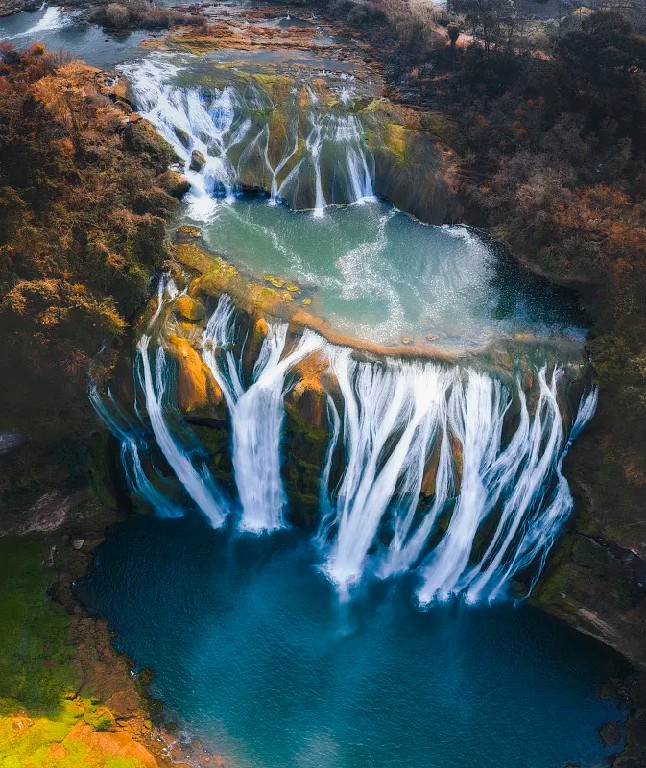Huangguoshu: (86, 271, 596, 604)
